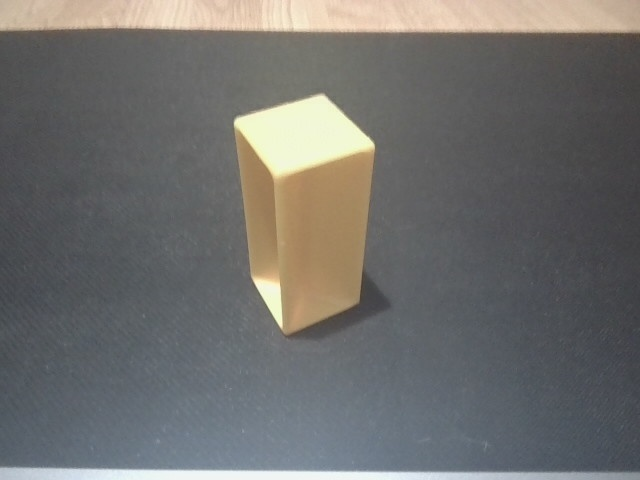YellowSample: (227, 89, 381, 339)
